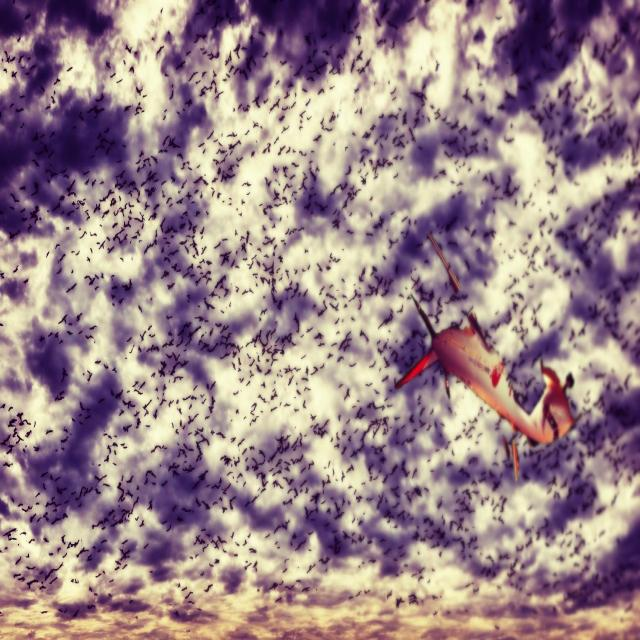airplane: (394, 232, 577, 481)
